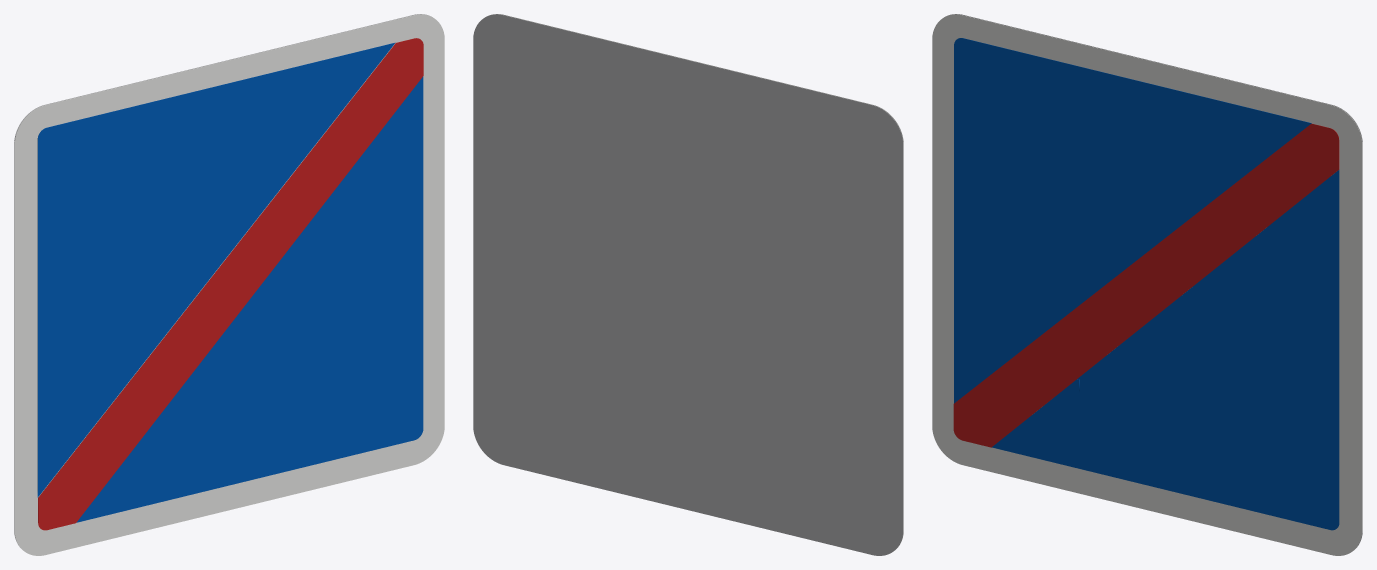
3 views of the same model, side by side, from view 1: azimuth 30°, elevation 25°; view 2: azimuth 150°, elevation 25°; view 3: azimuth 330°, elevation 25° (orthographic).
Visible parts, largest first — view 1: C108_p04, C108_p05, C108_p00, C108_p07, C108_dos; view 2: C108_dos, C108_p00; view 3: C108_p04, C108_p05, C108_p00, C108_p07, C108_dos.
Boxes of the visible parts, left/top/right/bottom form: C108_p04: left=37, top=42, right=395, bottom=497; C108_p05: left=76, top=76, right=423, bottom=522; C108_p00: left=14, top=14, right=444, bottom=555; C108_p07: left=38, top=38, right=423, bottom=530; C108_dos: left=14, top=14, right=431, bottom=547; C108_dos: left=473, top=14, right=903, bottom=555; C108_p00: left=486, top=14, right=903, bottom=547; C108_p04: left=954, top=38, right=1311, bottom=403; C108_p05: left=992, top=170, right=1339, bottom=530; C108_p00: left=932, top=14, right=1362, bottom=555; C108_p07: left=953, top=123, right=1339, bottom=447; C108_dos: left=945, top=14, right=1362, bottom=547.
Size of the model in its own units: 0.7 by 0.6999 by 0.0047.
